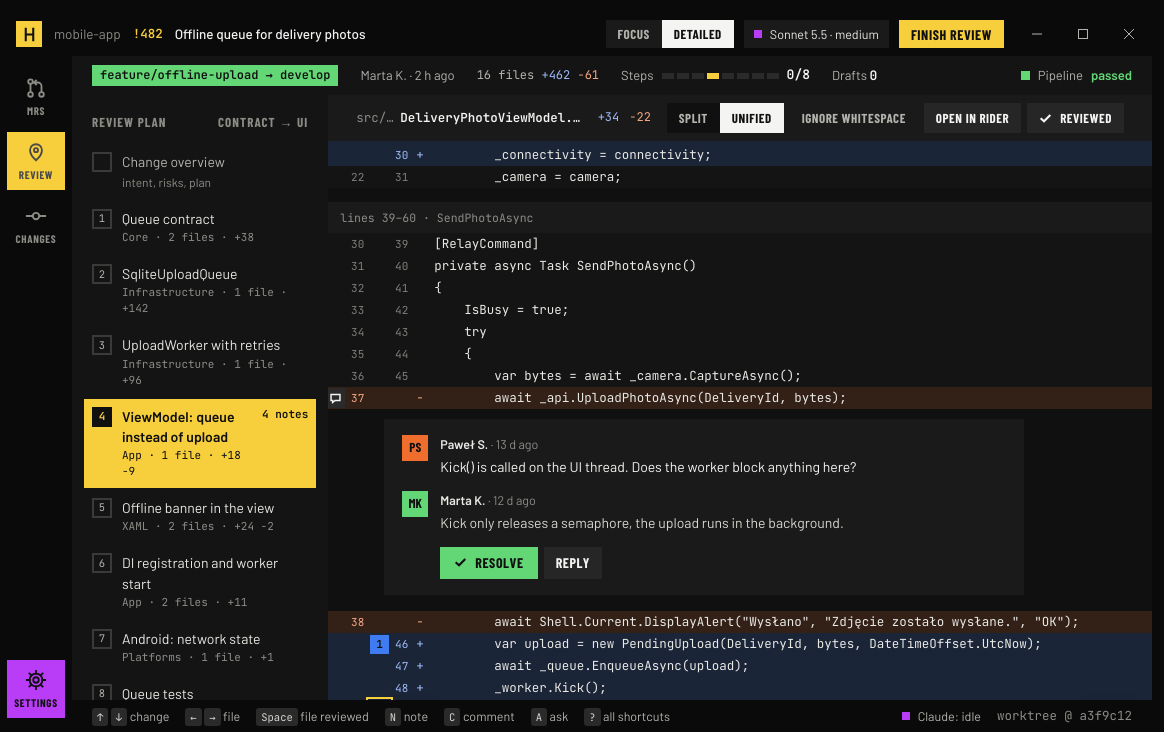
Test: S-04 threads in the unified layout (F-11.1) › F-11.1 a thread on a removed line has its icon on that line in the unified layout
(page scrolled)
Expected: the element showing "37" is shown, [328, 387, 372, 409]
The icon is the card's only toggle: it closes it and opens it again.
Click the button named "Thread by Paweł S. at line 37".
click(335, 398)  # box [325, 388, 345, 408]
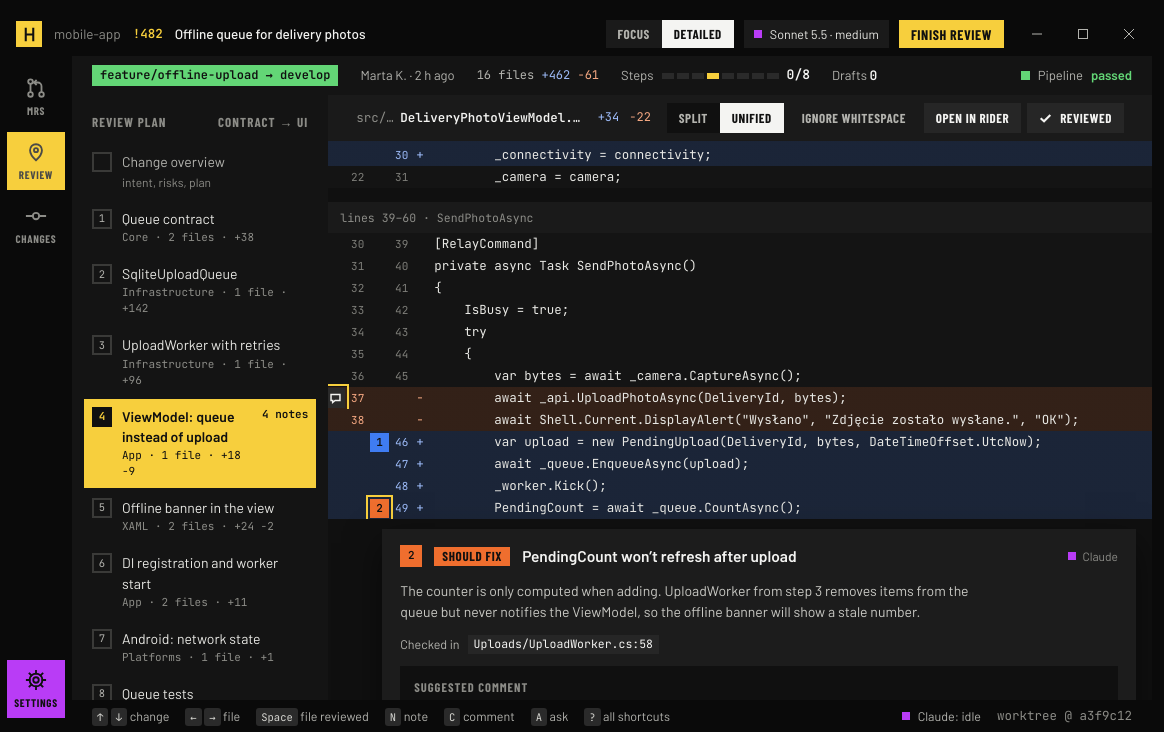
Click the button named "Thread by Paweł S. at line 37".
click(335, 398)  # box [325, 388, 345, 408]
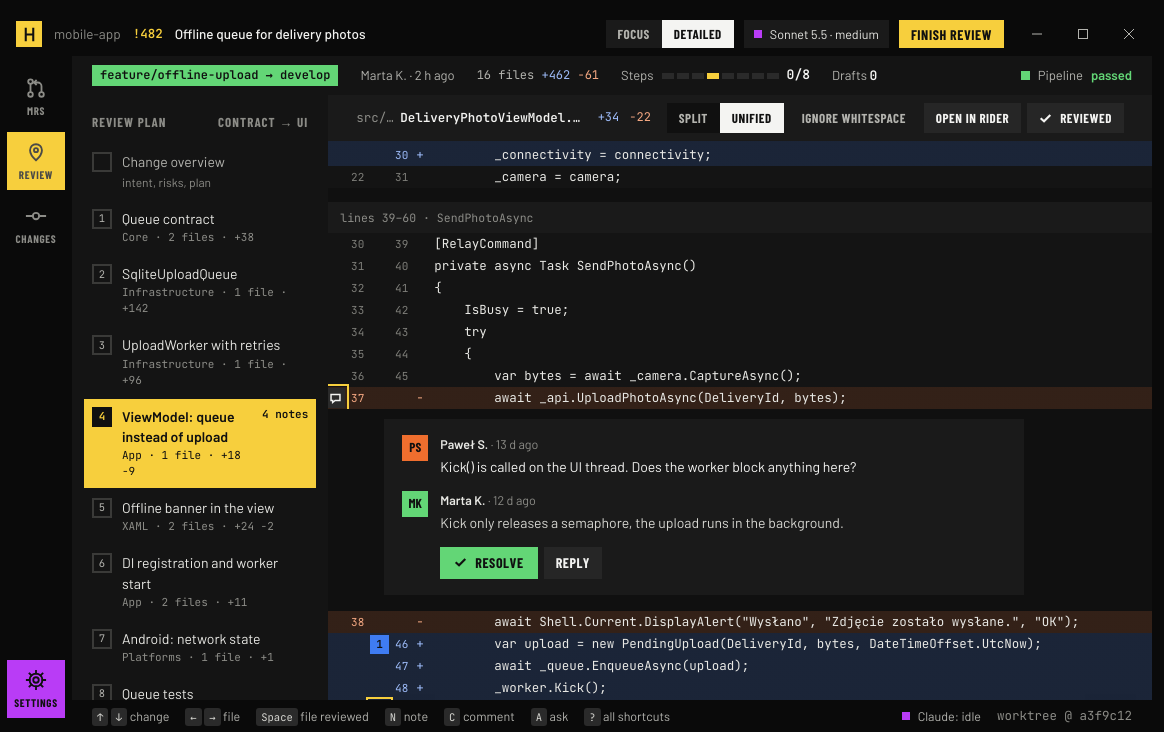
Expected: the element named "Thread at line 37" is shown, [384, 419, 1024, 595]
